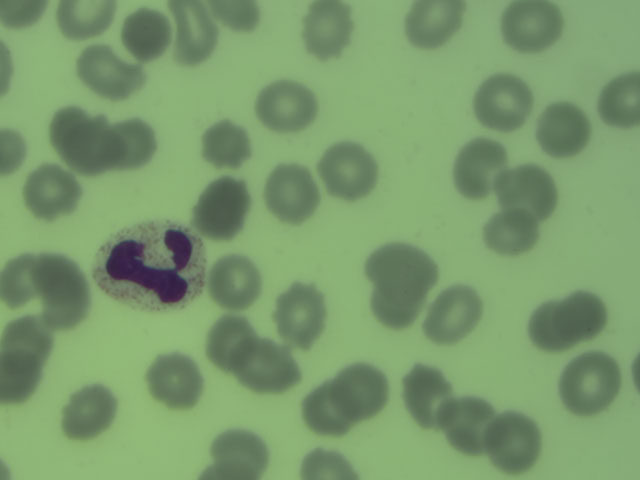RBC: (371, 236, 430, 288), (167, 1, 212, 67), (56, 120, 113, 170), (200, 118, 255, 168), (199, 183, 248, 238), (76, 56, 145, 95), (596, 72, 640, 131), (56, 1, 120, 41), (434, 288, 485, 338), (492, 418, 543, 468), (445, 402, 496, 452), (404, 372, 455, 422), (296, 385, 347, 435), (337, 366, 388, 416), (214, 430, 265, 480), (324, 143, 375, 193), (267, 170, 318, 220), (275, 288, 326, 338), (238, 339, 289, 389), (205, 317, 256, 367), (209, 256, 260, 306), (150, 356, 201, 406), (63, 388, 114, 438), (37, 270, 88, 320), (264, 82, 315, 132), (27, 169, 78, 219), (108, 119, 159, 169), (303, 3, 354, 53), (121, 7, 172, 57), (522, 300, 573, 350), (562, 290, 613, 340), (481, 209, 532, 259), (505, 166, 556, 216), (451, 146, 502, 196), (538, 104, 589, 154), (479, 78, 530, 128), (371, 279, 422, 329), (566, 356, 617, 406), (506, 1, 557, 49), (407, 1, 458, 49), (1, 318, 51, 363), (208, 1, 269, 36), (298, 445, 358, 480), (1, 358, 46, 404), (1, 256, 38, 306), (1, 1, 46, 32), (1, 128, 28, 176)
WBC: (95, 217, 203, 312)
